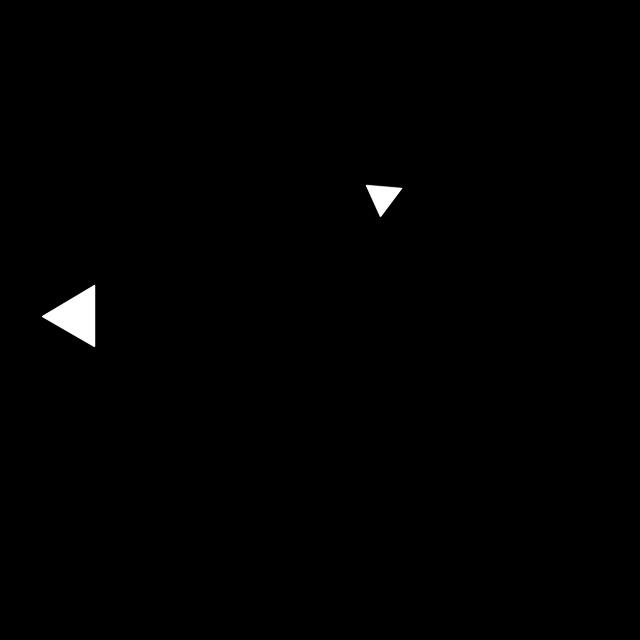Triangle: (33, 276, 108, 356), (359, 176, 408, 228)
